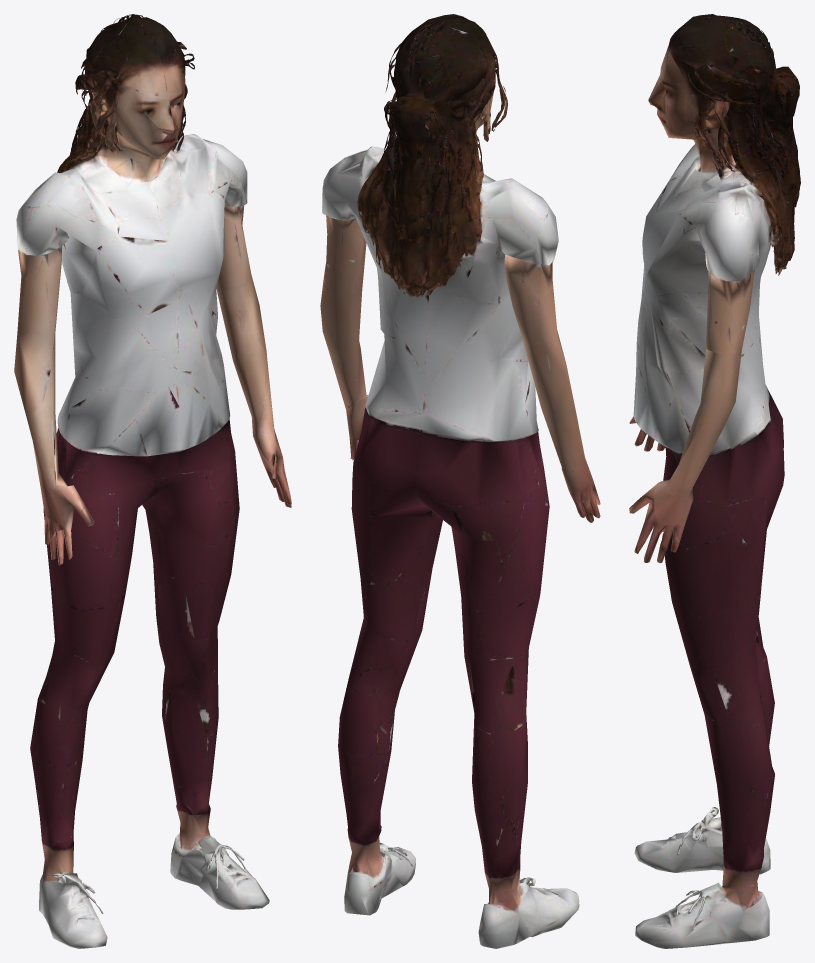
The model's file is mae.glb.
The picture shows the model from 3 angles, left to right: view 1: azimuth 30°, elevation 25°; view 2: azimuth 150°, elevation 25°; view 3: azimuth 270°, elevation 25°; orthographic projection.
Size of the model in its own units: 0.4712 by 1.63 by 0.2863.
1 material, 1 textured.
